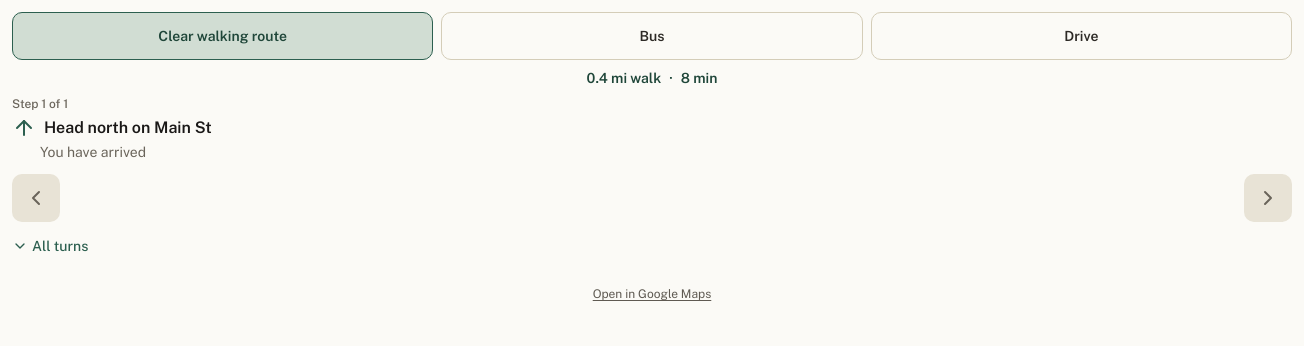
Test case: DirectionButtons — turn-by-turn step list (#134 enhancement) › short steps (<528 ft threshold) show distance in feet
The image size is (1304, 346).
Click the button with test id "walk-stepper-all-turns-toggle" at (50, 246), box [12,230,88,262]
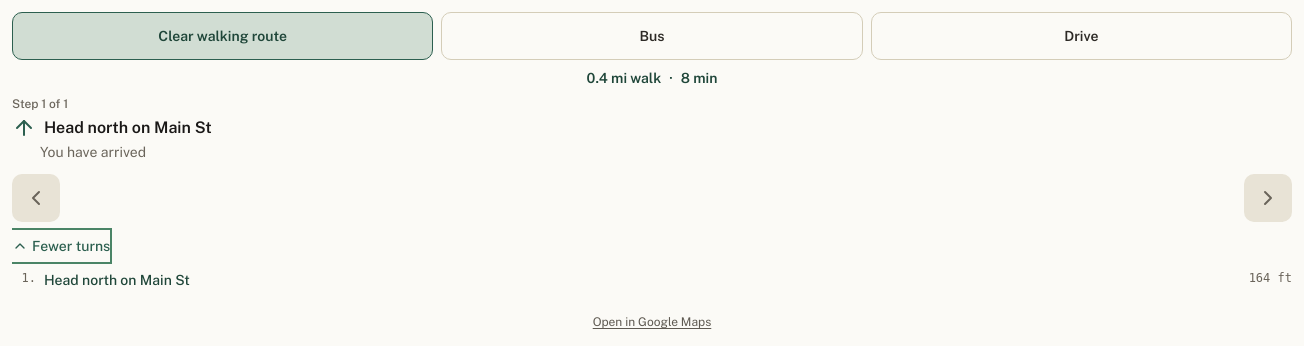
Now the list with test id "walk-steps-list" shows "ft", box [12,270,1292,290]
